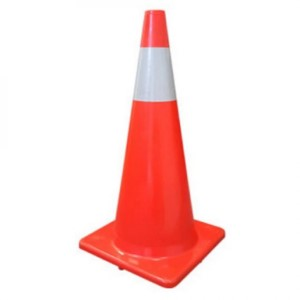traffic cone: (79, 10, 227, 289)
